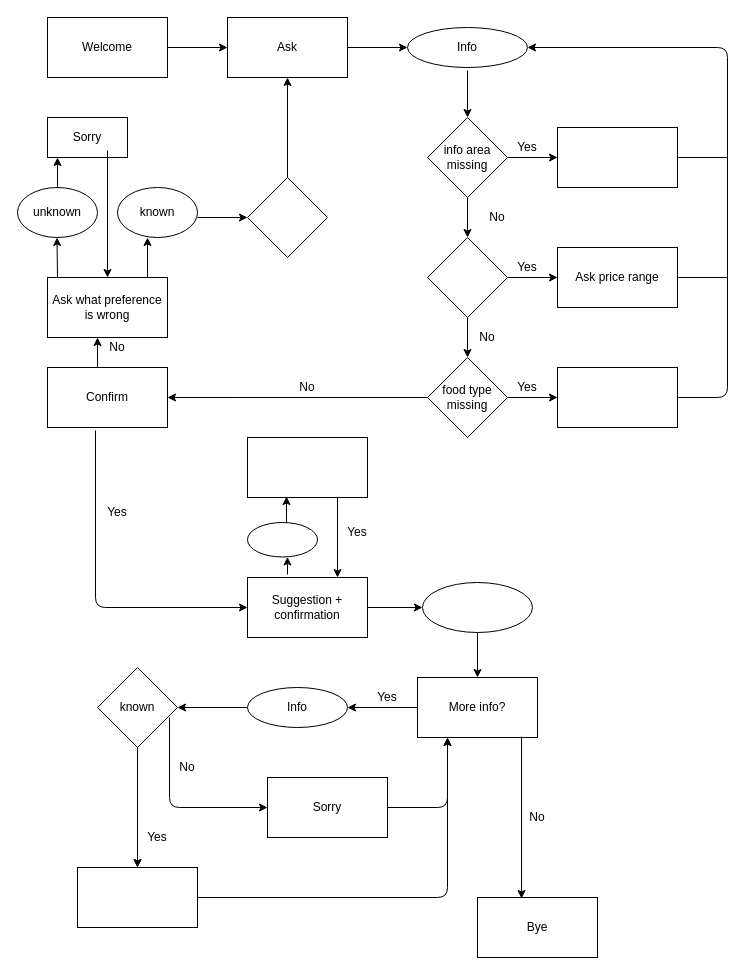
Some shapes in this 753 by 975 pixel diagram are drawn without their labels. The centre of each missing label's shape, as x and y in pixels:
Ask area: point (617, 157)
Ask food type: point (617, 397)
Give additional info: point (137, 897)
Give other suggestion?: point (307, 467)
price range missing: point (467, 277)
Remove: point (287, 217)
Right: point (477, 607)
Wrong: point (282, 539)
